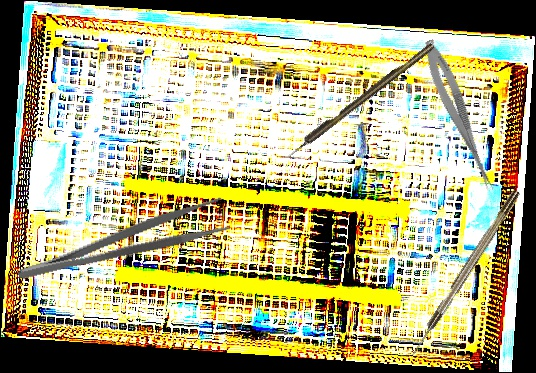Dressing Forceps: (11, 195, 232, 285)
Hook Surgical: (407, 188, 523, 358), (283, 42, 436, 160)
Micro Scissor: (416, 36, 504, 195)
